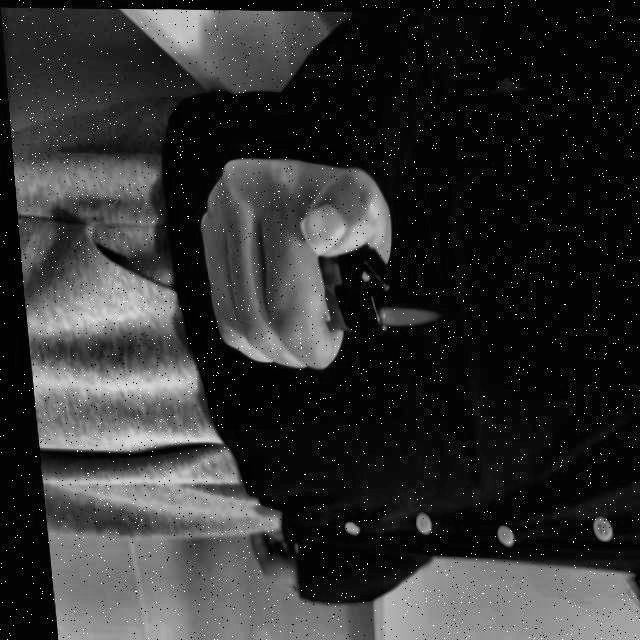Fire: (375, 300, 440, 327)
